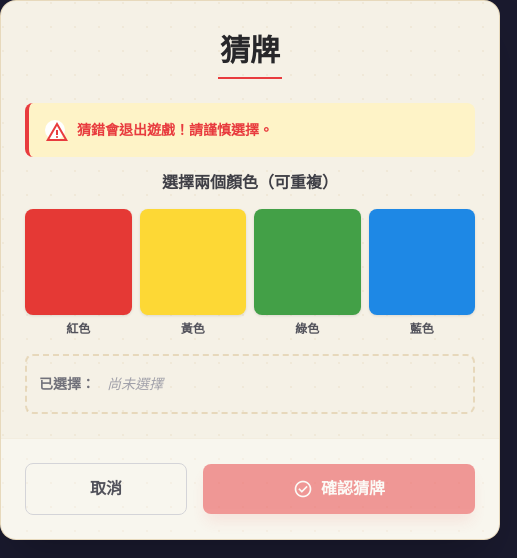
Test: GuessCard - 工作單 0021, 0129 › 顏色選擇器 › 點擊顏色應選擇該顏色
Click the button with aria-label "選擇 紅色": point(78, 273) [25, 209, 132, 338]
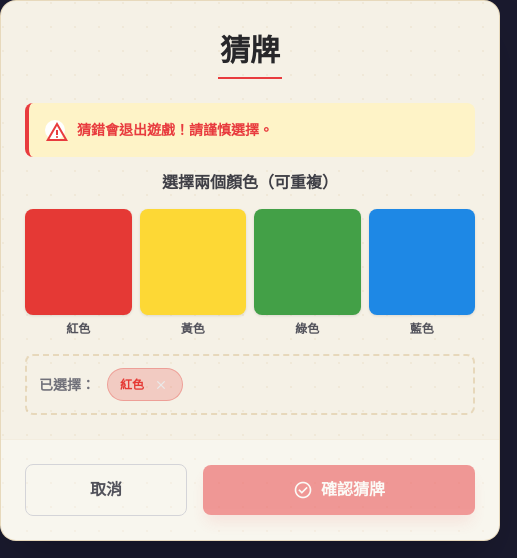
expect the button named "移除 紅色" is shown: met, box [152, 376, 170, 394]
